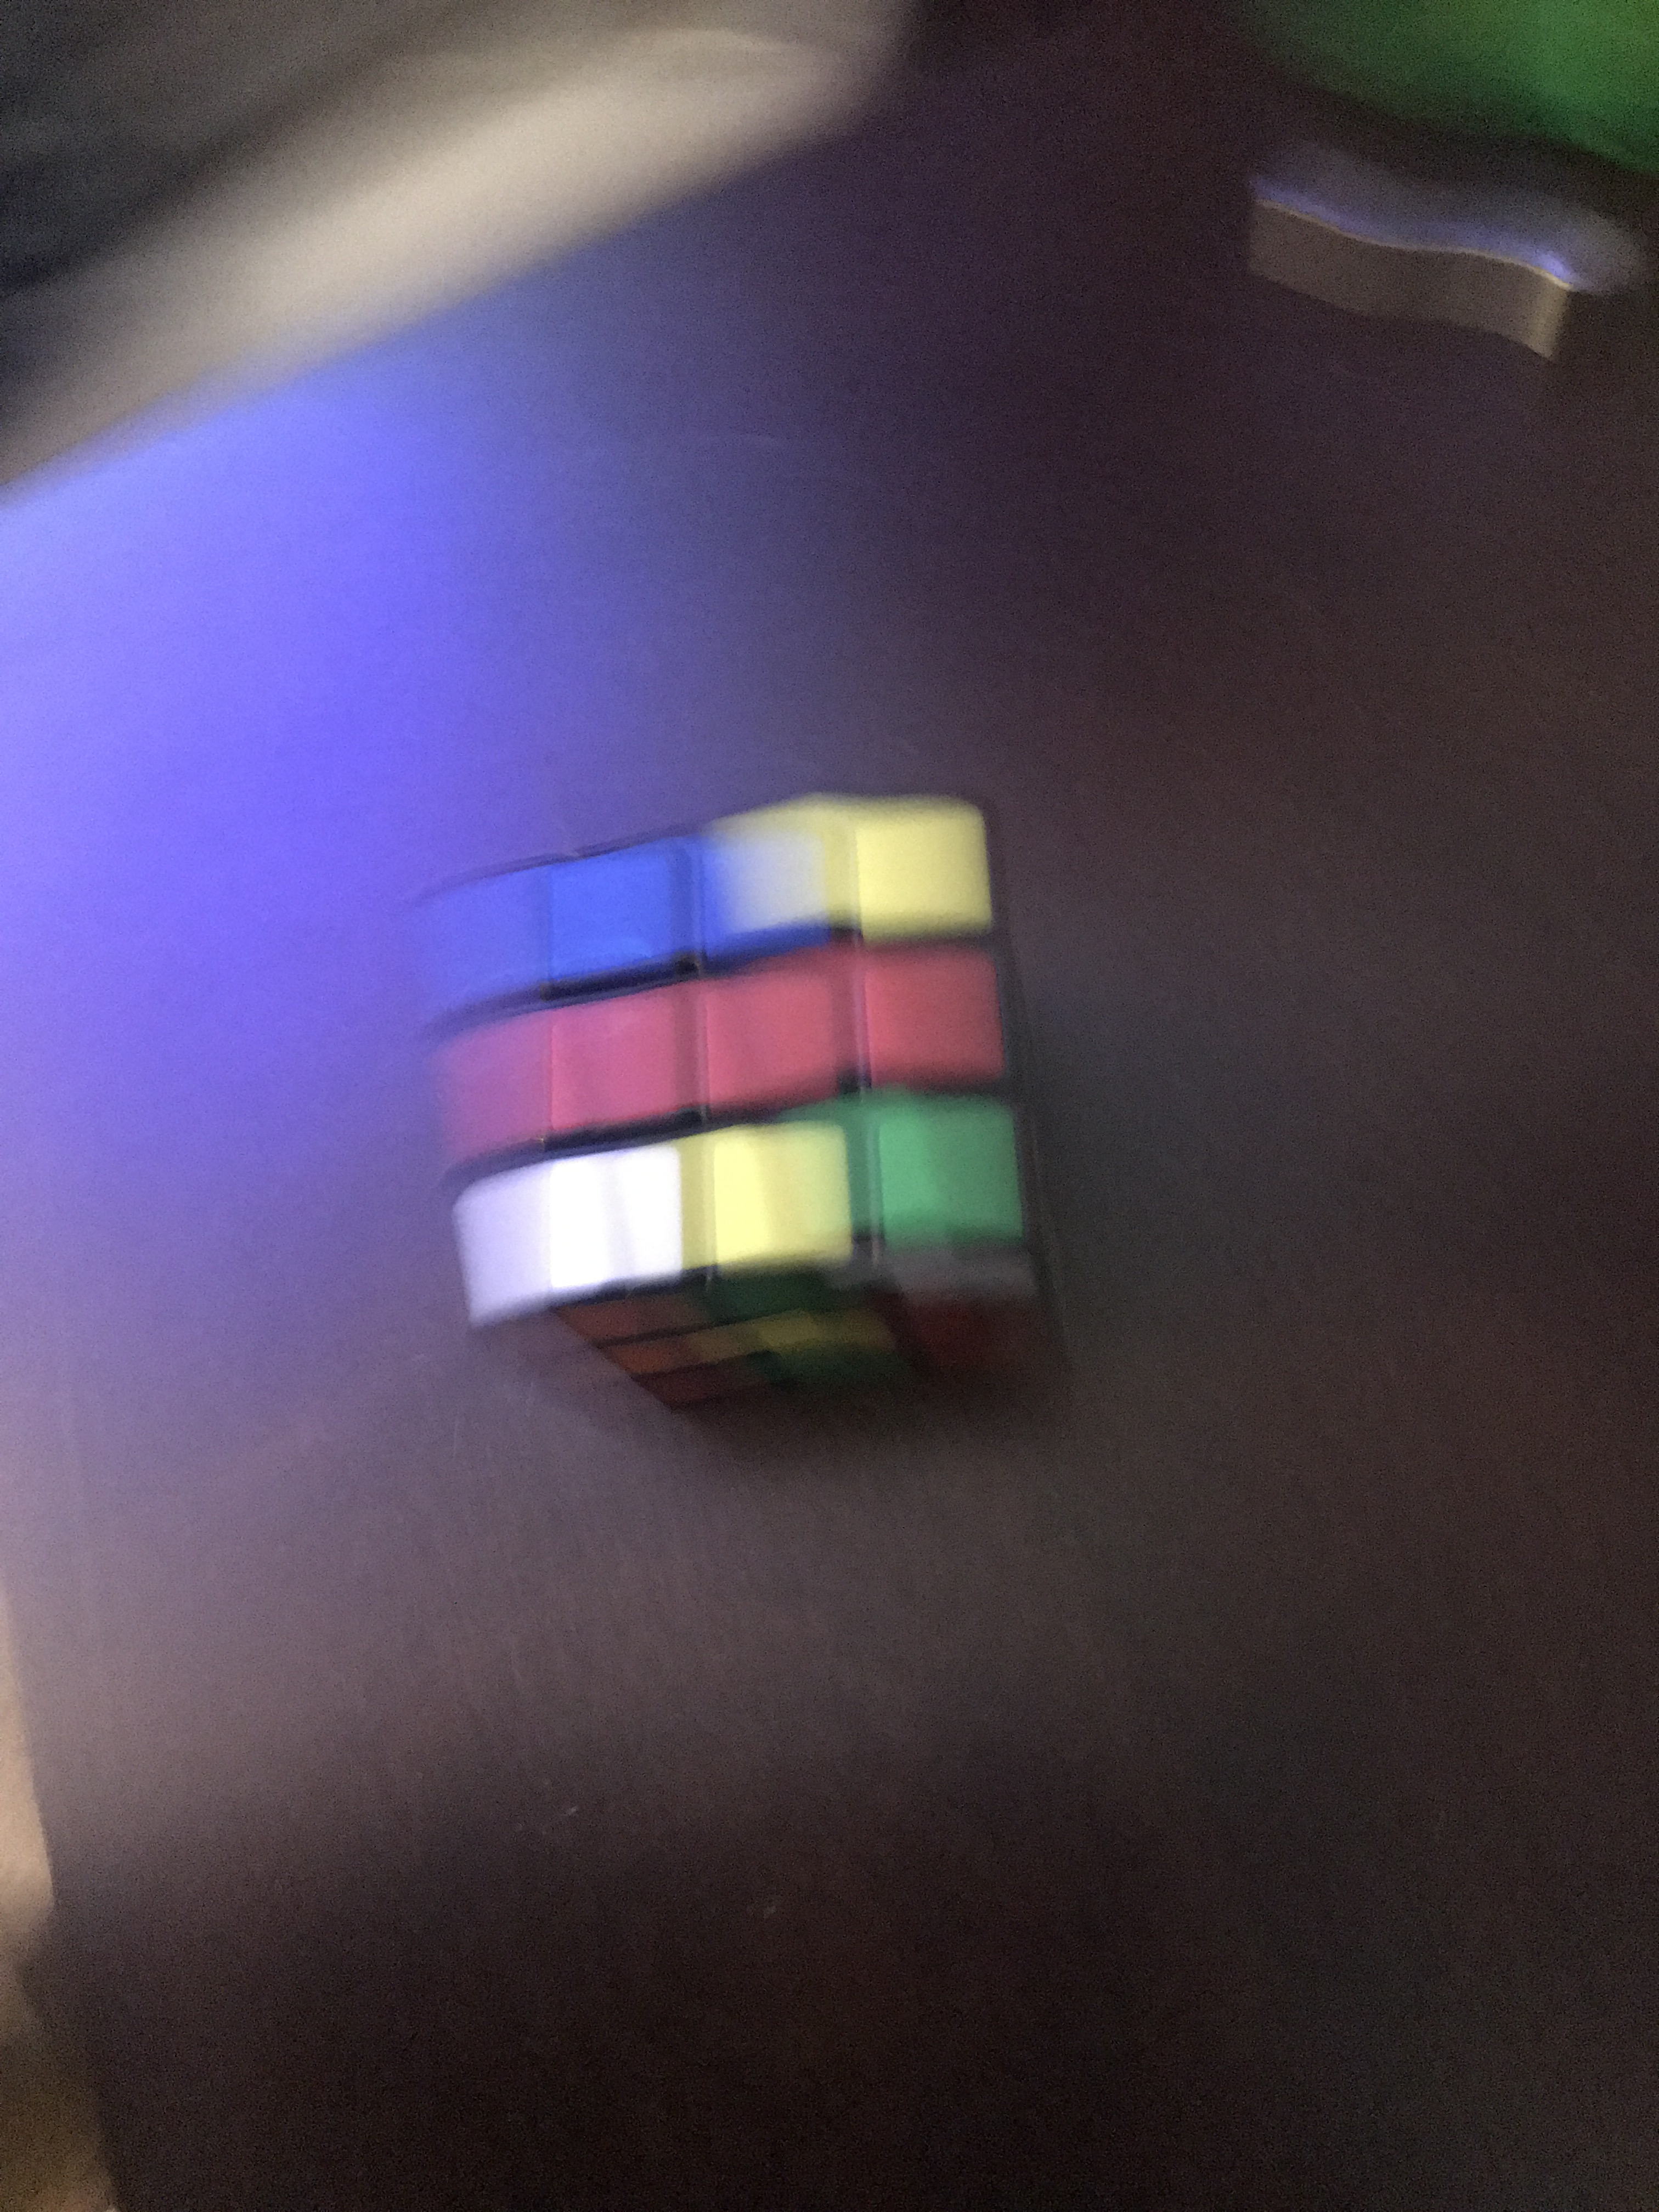rubiks: (450, 791, 1087, 1407)
